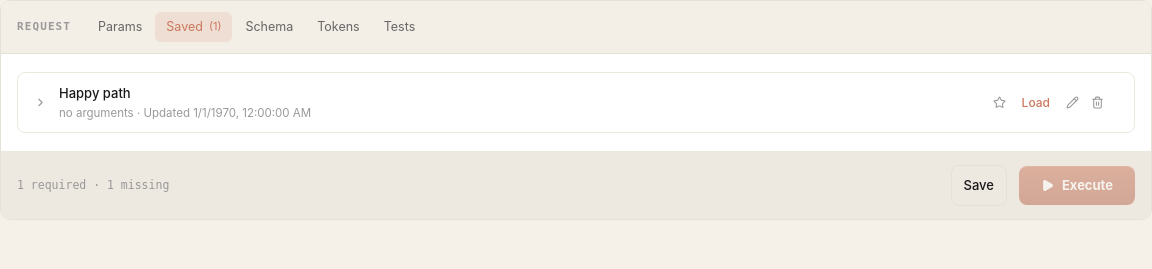
ToolRequestPanel — Saved tab › with a stubbed testing API › marking a request "use for tests" persists and shows the caption
The image size is (1152, 269).
expect the text "Happy path" is shown: met, box [59,85,131,101]
Click the button named "Use Happy path for tests": (999, 103) [989,92,1010,113]
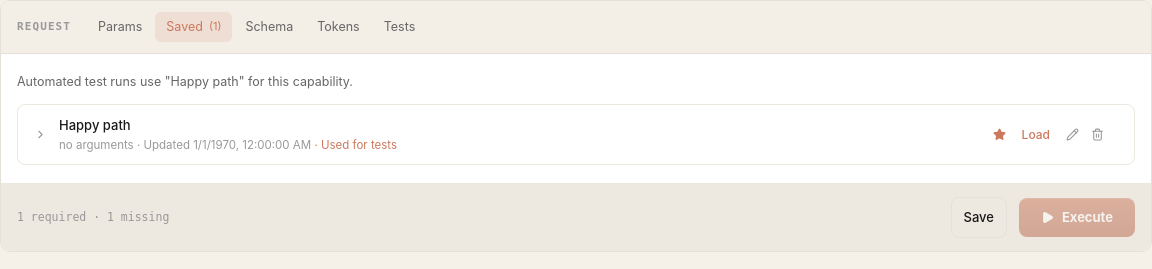
expect the text "Automated test runs use \"Happy path\" for this capability." is shown: met, box [17,74,353,89]
